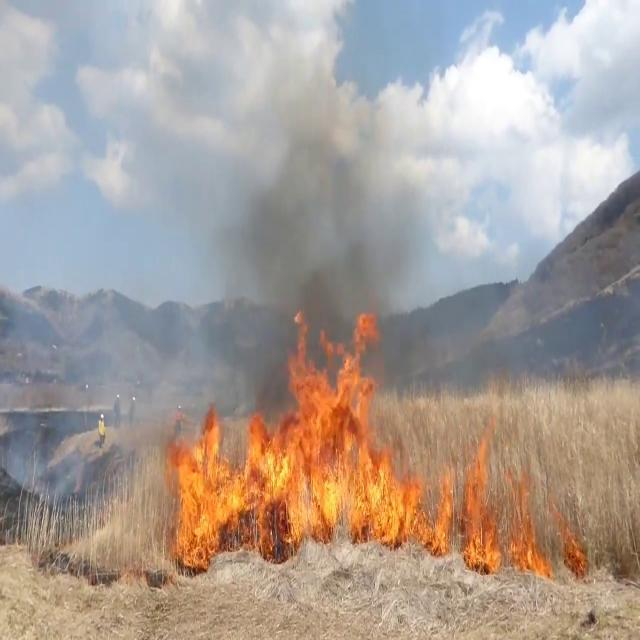Fire: (164, 306, 413, 552), (422, 417, 561, 577)
Smoke: (160, 90, 424, 395)
